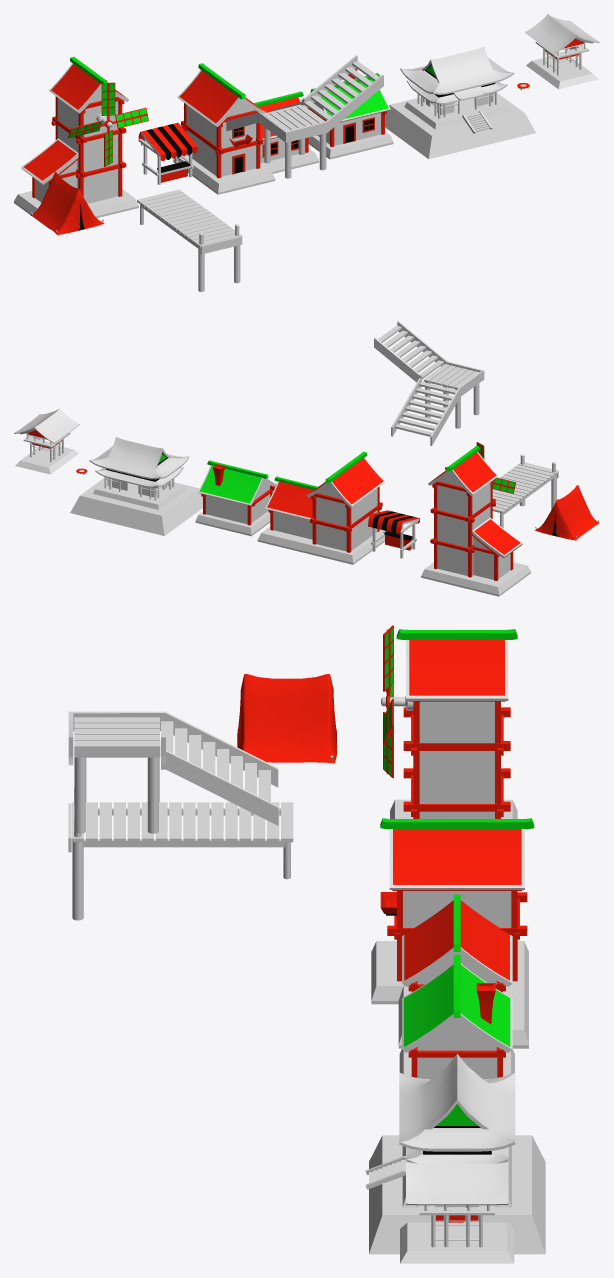
The model's file is card_town.fbx.
The picture shows the model from 3 angles, top to bottom: view 1: azimuth 30°, elevation 25°; view 2: azimuth 150°, elevation 25°; view 3: azimuth 270°, elevation 25°; orthographic projection. The views are drawn at different scales.
Visible parts, largest first — view 1: temple_foundation, house4_body, beach_stairs_struct, temple_roof, house4_roof, dock_main, house2_body.001, fox_tent, house2_foundation, house4_struc, house2_roof.001, house4_mill (+18 smaller); view 2: temple_foundation, house4_body, beach_stairs_struct, house2_body.001, temple_roof, house4_roof, house4_struc, fox_tent, house1_roof, house2_foundation, house4_foundation, beach_stairs_bot (+18 smaller); view 3: temple_foundation, temple_roof, house2_roof.001, fox_tent, house4_body, dock_main, beach_stairs_struct, house4_roof, house1_roof, house2_roof, house4_struc, temple_side_foundation (+14 smaller).
Boxes of the visible parts, bbox=[...] form: temple_foundation: bbox=[385, 93, 535, 159]; house4_body: bbox=[35, 89, 118, 203]; beach_stairs_struct: bbox=[226, 55, 383, 178]; temple_roof: bbox=[400, 46, 514, 94]; house4_roof: bbox=[21, 63, 128, 184]; dock_main: bbox=[137, 189, 242, 247]; house2_body.001: bbox=[186, 100, 256, 176]; fox_tent: bbox=[30, 171, 104, 234]; house2_foundation: bbox=[173, 148, 318, 194]; house4_struc: bbox=[32, 56, 126, 198]; house2_roof.001: bbox=[177, 70, 266, 127]; house4_mill: bbox=[68, 82, 148, 166]; temple_foundation: bbox=[70, 477, 202, 535]; house4_body: bbox=[437, 472, 510, 579]; beach_stairs_struct: bbox=[374, 320, 484, 445]; house2_body.001: bbox=[316, 484, 377, 551]; temple_roof: bbox=[89, 437, 189, 479]; house4_roof: bbox=[428, 452, 522, 558]; house4_struc: bbox=[430, 446, 513, 580]; fox_tent: bbox=[535, 485, 599, 540]; house1_roof: bbox=[198, 464, 276, 505]; house2_foundation: bbox=[257, 526, 384, 564]; house4_foundation: bbox=[421, 562, 530, 596]; beach_stairs_bot: bbox=[395, 382, 456, 436]; temple_foundation: bbox=[365, 1135, 545, 1254]; temple_roof: bbox=[399, 1053, 515, 1151]; house2_roof.001: bbox=[389, 829, 524, 889]; fox_tent: bbox=[237, 674, 337, 763]; house4_body: bbox=[419, 701, 494, 818]; dock_main: bbox=[72, 802, 293, 842]; beach_stairs_struct: bbox=[68, 711, 278, 833]; house4_roof: bbox=[406, 640, 508, 700]; house1_roof: bbox=[402, 963, 512, 1052]; house2_roof: bbox=[402, 900, 512, 986]; house4_struc: bbox=[396, 629, 517, 818]; temple_side_foundation: bbox=[400, 1222, 514, 1263].
Size of the model in its own units: 27.89 by 8.04 by 11.1.
